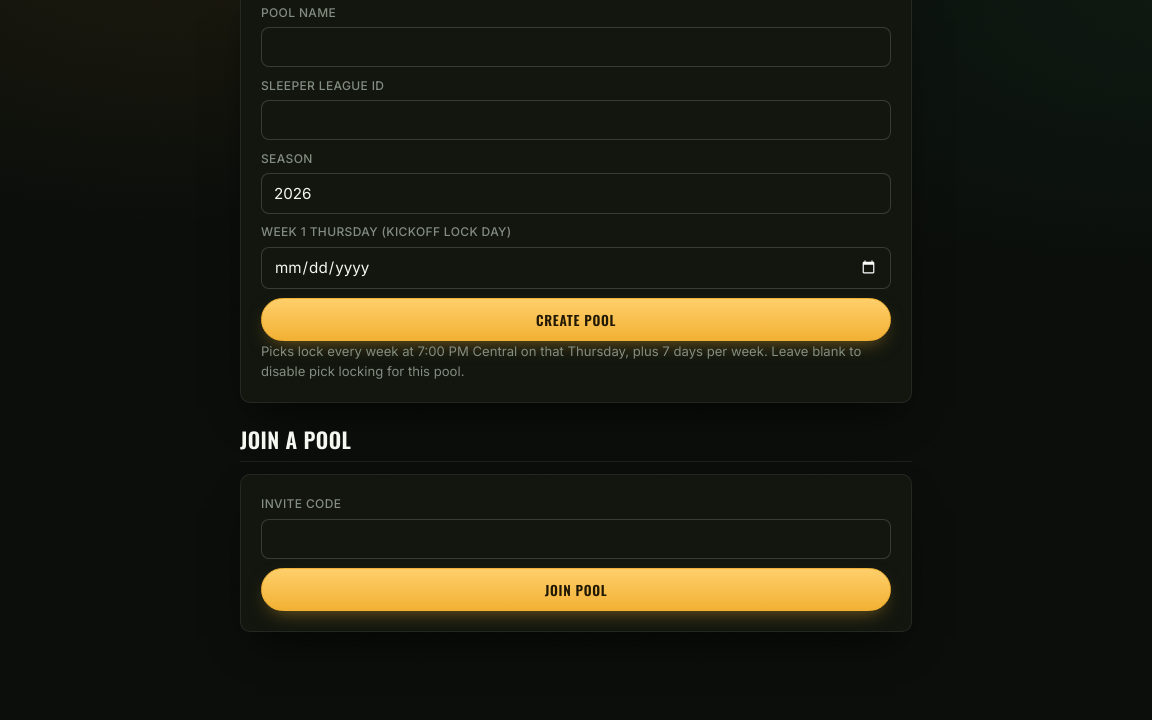
Pools › joins an existing pool by invite code
The width and height of the screenshot is (1152, 720).
(page scrolled)
In the field labelled "Invite code": point(576, 539) [261,519,891,559], type "abc123"
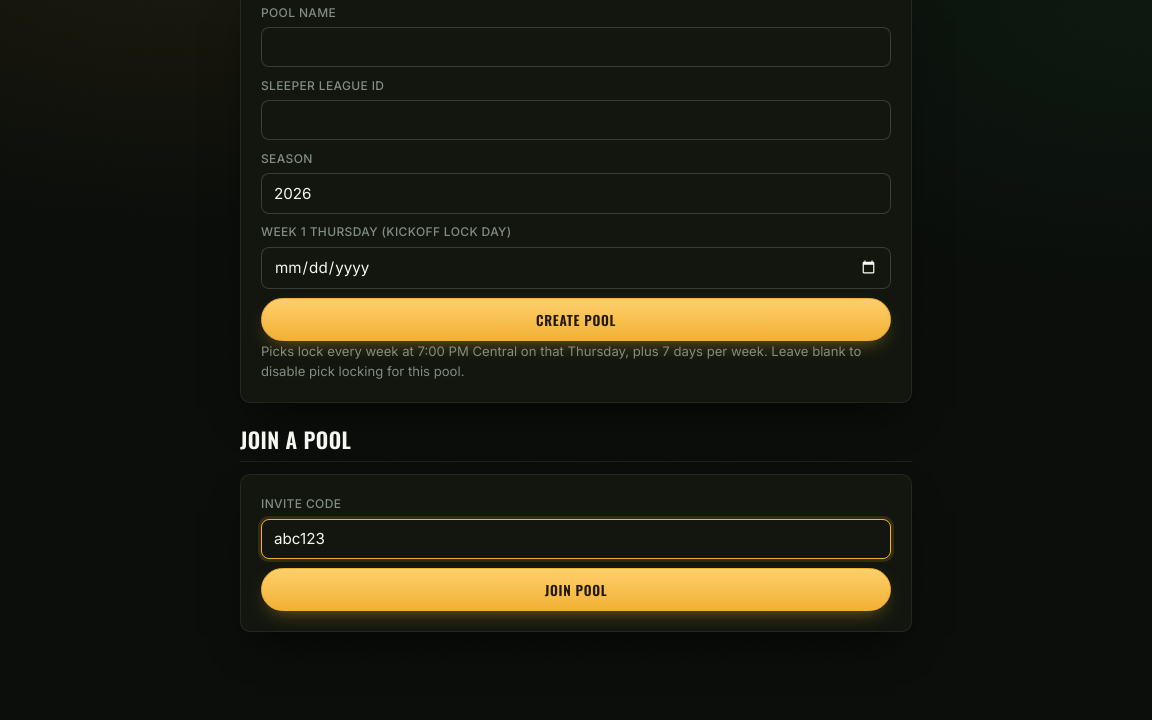
Click the button "Join pool": point(576, 590) [261,568,891,611]
(page scrolled)
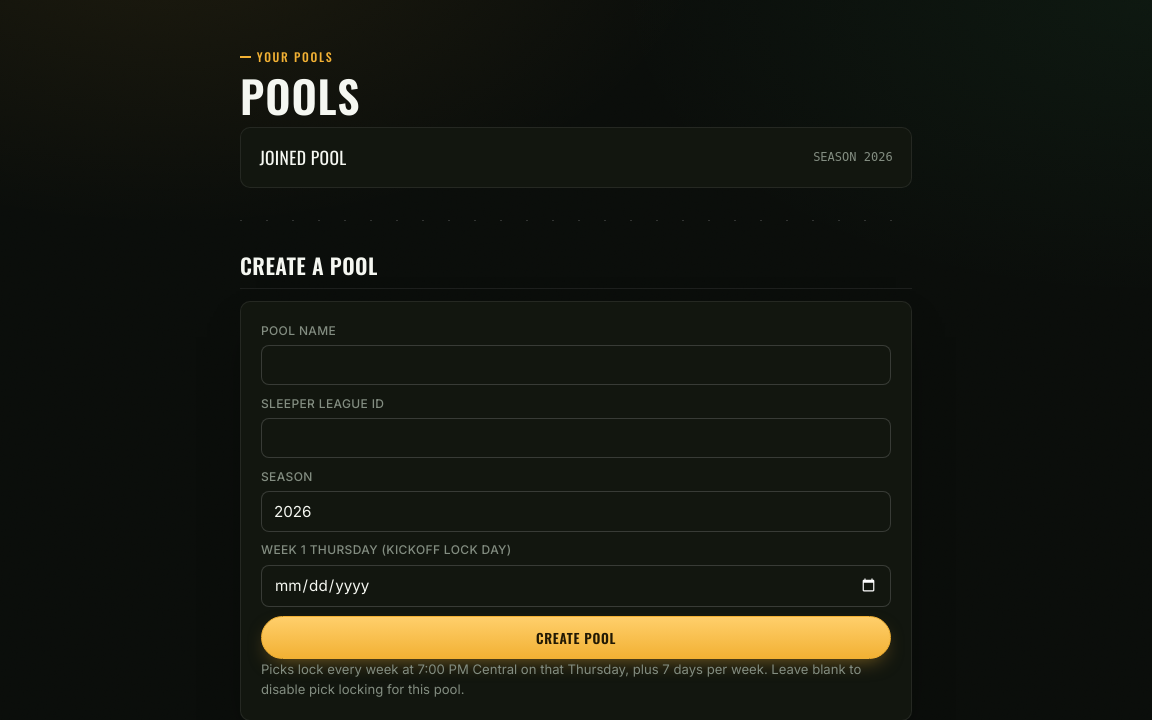
Now the text "Joined Pool" is shown, box [259,144,347,171]
